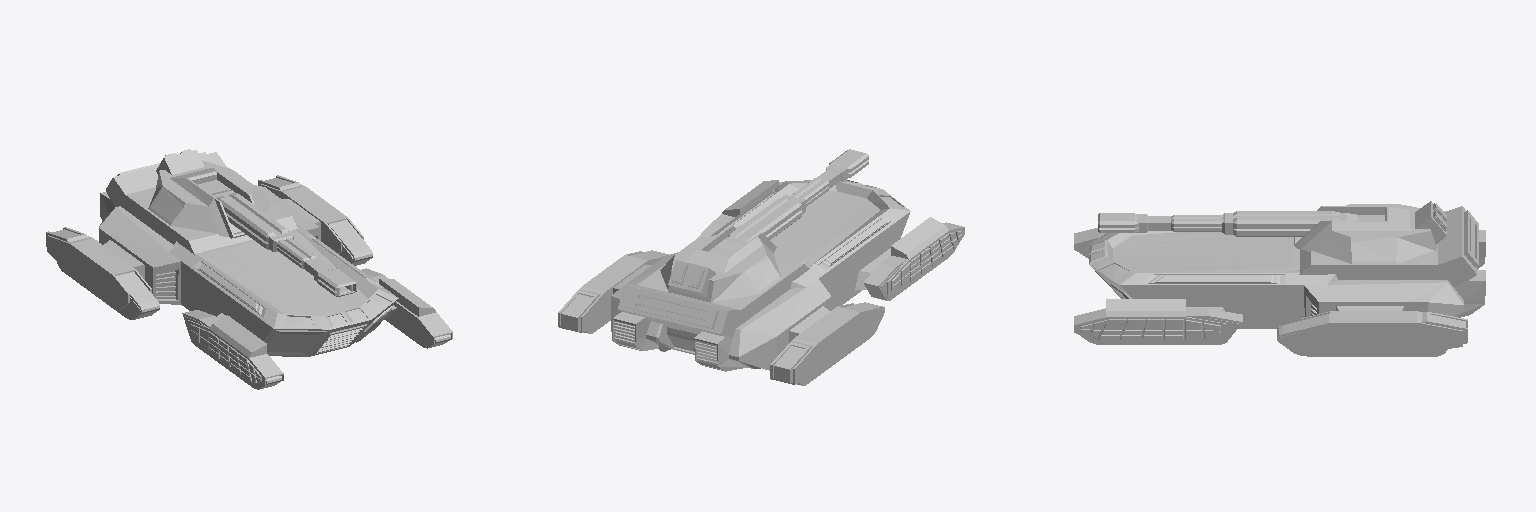
The model's file is testTank1.obj.
The picture shows the model from 3 angles: view 1: azimuth 30°, elevation 25°; view 2: azimuth 150°, elevation 25°; view 3: azimuth 270°, elevation 25°; orthographic projection.
Visible parts, largest first — view 1: Cube_Cube.001, Torreta, Cubre_Orugas.000, Cubre_Orugas, Centro, Orugas, Ca?on.001, Orugas_2, Ca?on, Ca?on.003, Ca?on.002; view 2: Cube_Cube.001, Cubre_Orugas.000, Torreta, Centro, Cubre_Orugas, Orugas_2, Ca?on.001, Ca?on, Orugas, Ca?on.003, Ca?on.002; view 3: Cube_Cube.001, Torreta, Cubre_Orugas.000, Cubre_Orugas, Centro, Ca?on.001, Orugas, Orugas_2, Ca?on, Ca?on.002, Ca?on.003.
Boxes of the visible parts, x1=… form: Cube_Cube.001: x1=99, y1=185, x2=398, y2=356; Torreta: x1=148, y1=149, x2=269, y2=238; Cubre_Orugas.000: x1=46, y1=175, x2=363, y2=309; Cubre_Orugas: x1=188, y1=278, x2=452, y2=385; Centro: x1=106, y1=152, x2=297, y2=254; Orugas: x1=57, y1=220, x2=372, y2=319; Ca?on.001: x1=216, y1=193, x2=289, y2=249; Orugas_2: x1=182, y1=268, x2=450, y2=389; Ca?on: x1=211, y1=190, x2=352, y2=294; Ca?on.003: x1=317, y1=268, x2=356, y2=296; Ca?on.002: x1=277, y1=237, x2=316, y2=268; Cube_Cube.001: x1=611, y1=180, x2=910, y2=371; Cubre_Orugas.000: x1=558, y1=251, x2=875, y2=384; Torreta: x1=660, y1=225, x2=780, y2=302; Centro: x1=618, y1=257, x2=809, y2=338; Cubre_Orugas: x1=718, y1=180, x2=964, y2=294; Orugas_2: x1=698, y1=214, x2=955, y2=300; Ca?on.001: x1=728, y1=198, x2=801, y2=241; Ca?on: x1=719, y1=164, x2=847, y2=250; Orugas: x1=584, y1=250, x2=884, y2=385; Ca?on.003: x1=829, y1=149, x2=868, y2=177; Ca?on.002: x1=791, y1=178, x2=828, y2=206; Cube_Cube.001: x1=1089, y1=230, x2=1485, y2=328; Torreta: x1=1294, y1=201, x2=1446, y2=263; Cubre_Orugas.000: x1=1300, y1=211, x2=1467, y2=352; Cubre_Orugas: x1=1074, y1=228, x2=1227, y2=340; Centro: x1=1299, y1=206, x2=1478, y2=286; Ca?on.001: x1=1233, y1=211, x2=1340, y2=236; Orugas: x1=1277, y1=314, x2=1447, y2=356; Orugas_2: x1=1080, y1=253, x2=1242, y2=344; Ca?on: x1=1137, y1=213, x2=1357, y2=234; Ca?on.002: x1=1171, y1=215, x2=1223, y2=231; Ca?on.003: x1=1098, y1=213, x2=1138, y2=232.
Size of the model in its own units: 1.13 by 0.4325 by 1.71.